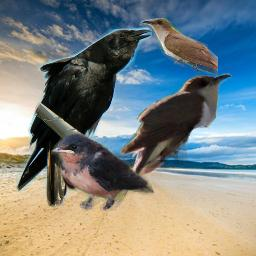Crow: (16, 27, 152, 209)
Cuckoo: (116, 72, 232, 211), (139, 18, 218, 76)
Swallow: (51, 132, 154, 211)
